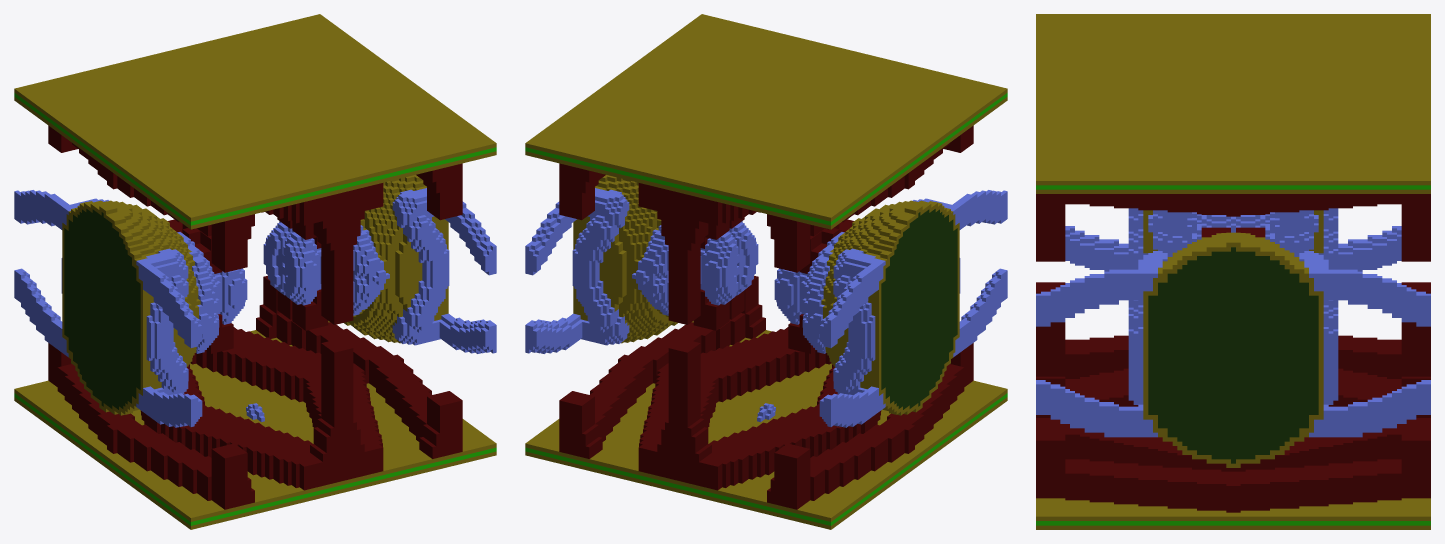
Rendered from weird_stuff.obj.
3 views of the same model, side by side, from view 1: azimuth 30°, elevation 25°; view 2: azimuth 150°, elevation 25°; view 3: azimuth 270°, elevation 25° (orthographic). The views are drawn at different scales.
Visible parts, largest first — view 1: weird_stuff; view 2: weird_stuff; view 3: weird_stuff.
Boxes of the visible parts, left/top/right/bottom form: weird_stuff: left=14, top=14, right=496, bottom=529; weird_stuff: left=525, top=14, right=1007, bottom=529; weird_stuff: left=1036, top=14, right=1430, bottom=529.
Bounding box in the file's own units: 81 × 79 × 81.
Materials: 1 (1 with a texture image).
